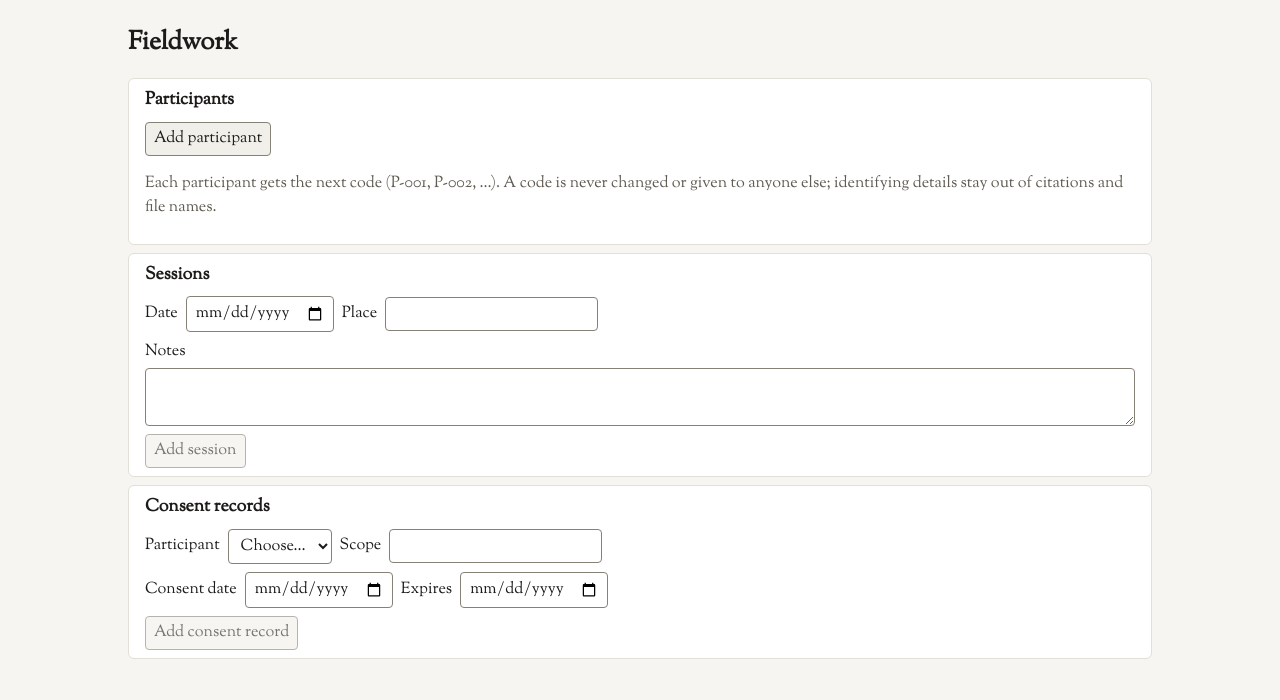
Test: Fieldwork › refuses to delete a participant something links to, and says why
The width and height of the screenshot is (1280, 700).
Expected: the element "Participants" is shown, [128,78,1152,245]
Click the button "Add participant". click: [208, 139]
box: [145,122,271,156]
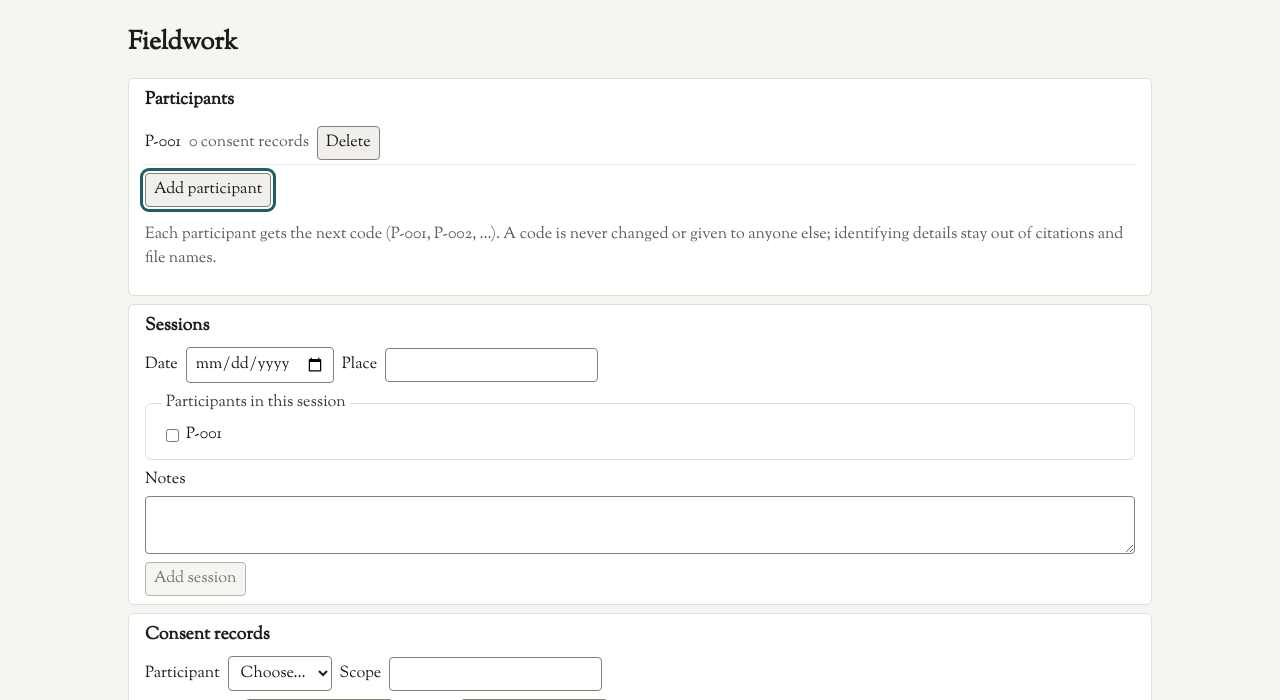
Click the button with aria-label "Delete P-001". click: [348, 143]
box: [317,126,380,160]
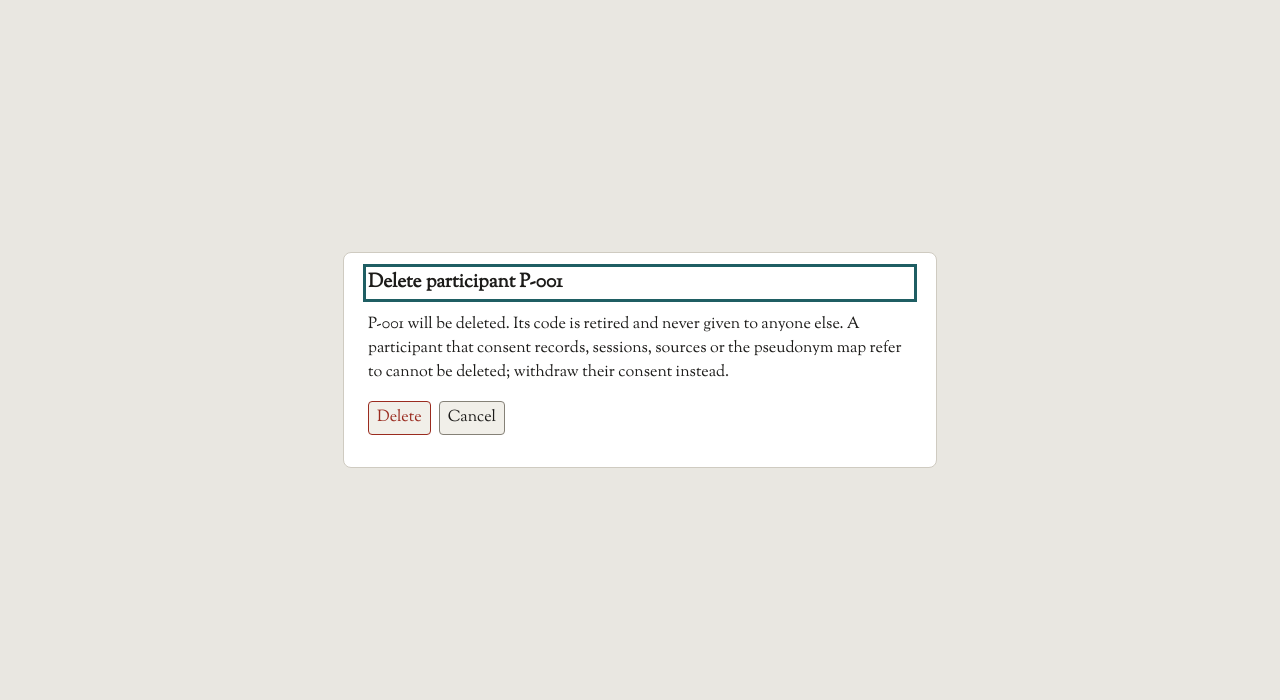
Click the button "Delete". click: [399, 418]
box: [368,401,431,435]
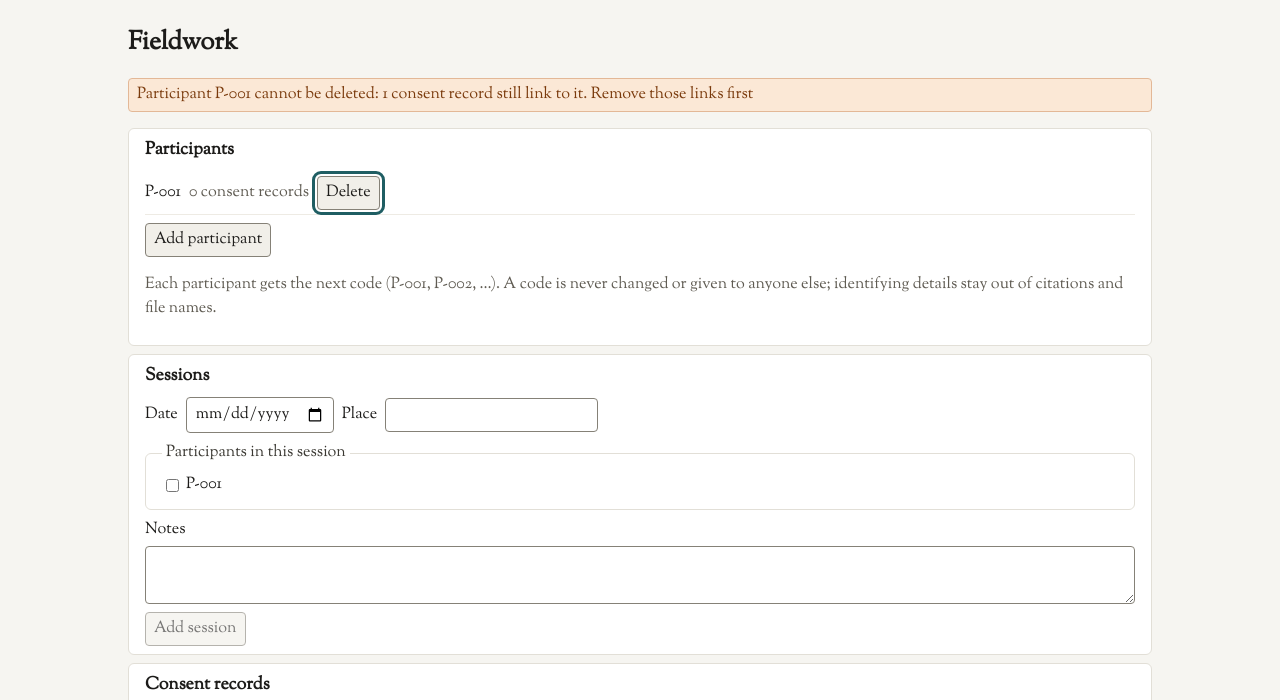
Expected: the text "P-001" next to "0 consent records" is shown, [145,181,181,204]
Expected: the message shows "cannot be deleted: 1 consent record", [137,83,753,106]
